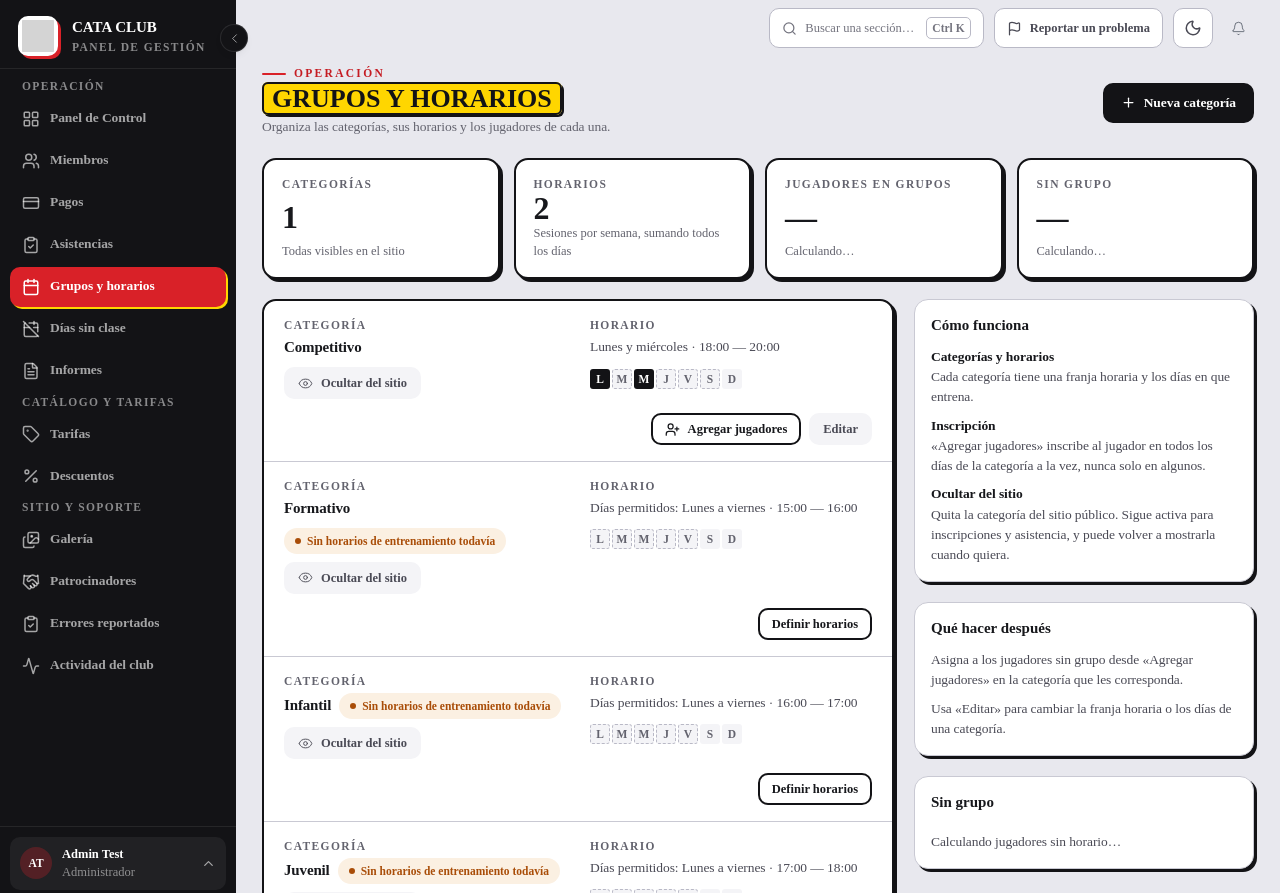
it: GroupsPage — the landing-publication toggle › leaves the state untouched and says so when the PATCH fails
Click the button with aria-label "Ocultar Competitivo del sitio".
click(352, 383)  # box [284,367,421,399]
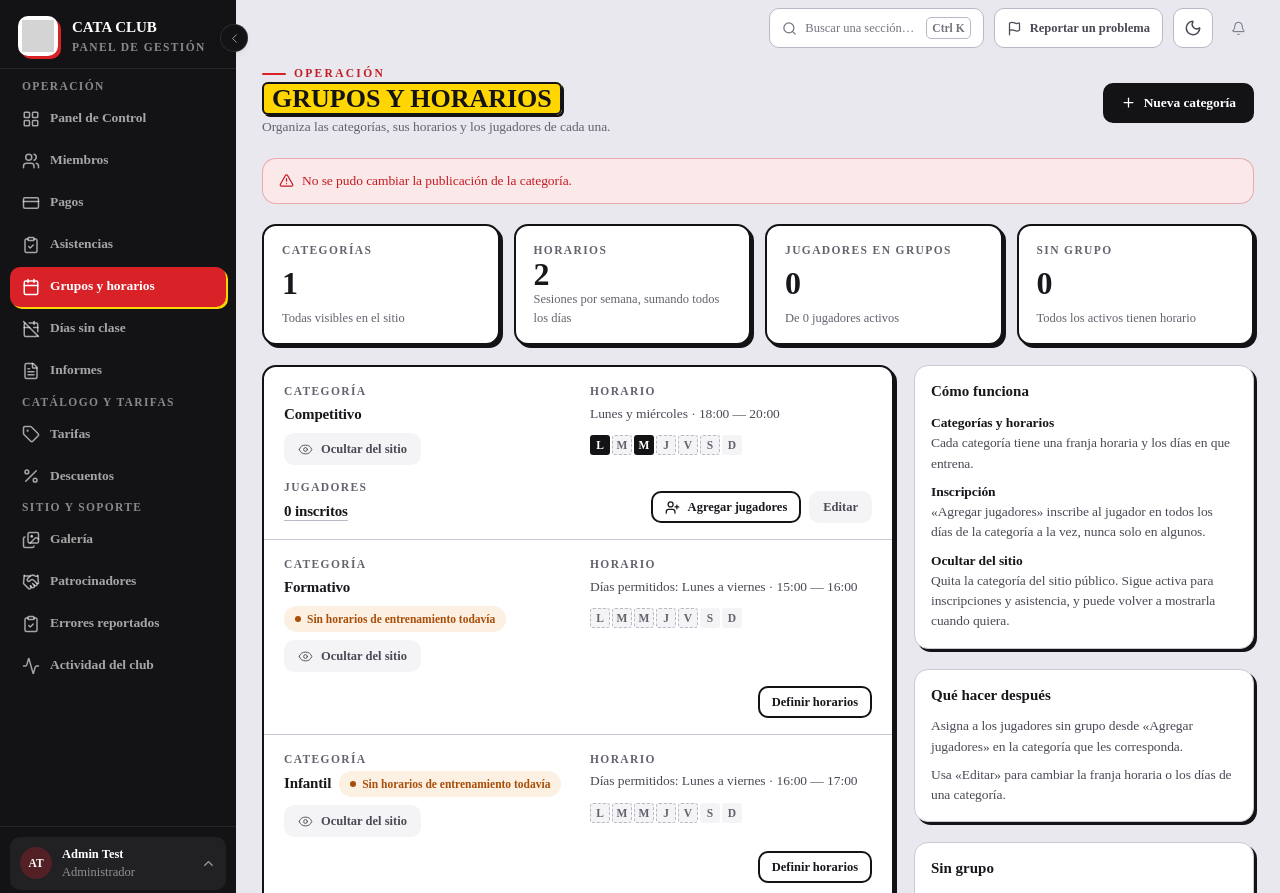
Expected: the button with aria-label "Ocultar Competitivo del sitio" is shown, [284,433,421,465]
Expected: the text "No se pudo cambiar la publicación de la categoría." is shown, [302,171,572,191]
